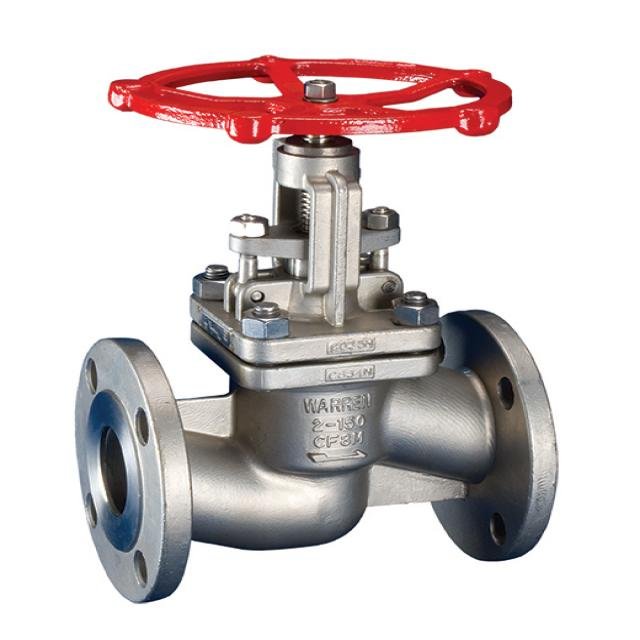Wheel Handle Valve Threaded: (97, 34, 538, 162)
